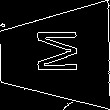M_W: (30, 33, 80, 79)
